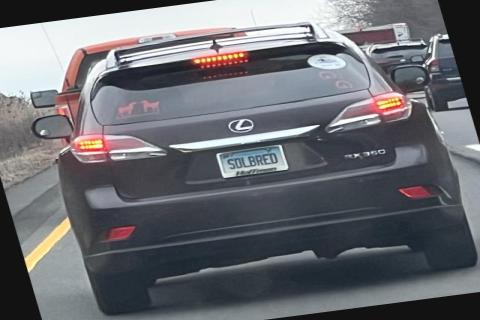LicensePlate: (214, 144, 288, 177)
